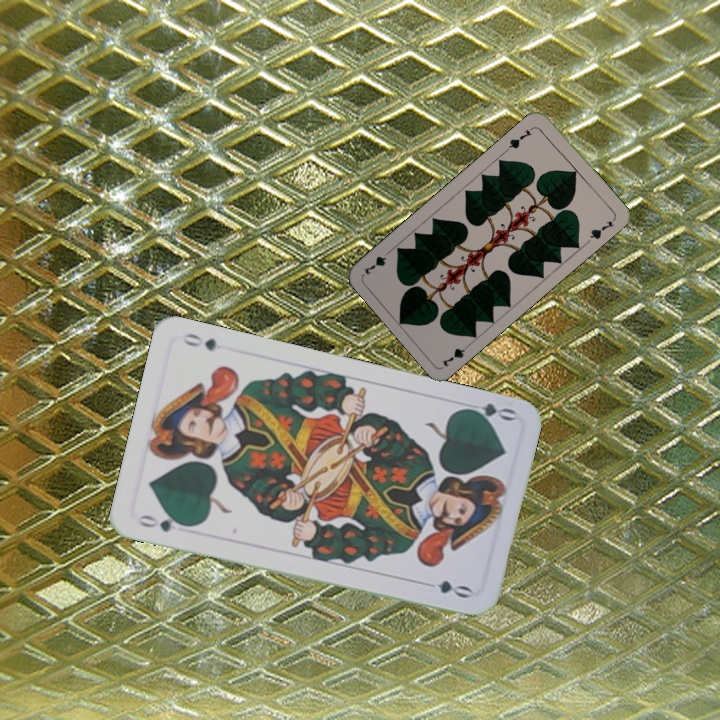G7: (438, 339, 474, 370), (503, 123, 537, 153)
GO: (458, 399, 518, 426), (134, 510, 193, 535)
